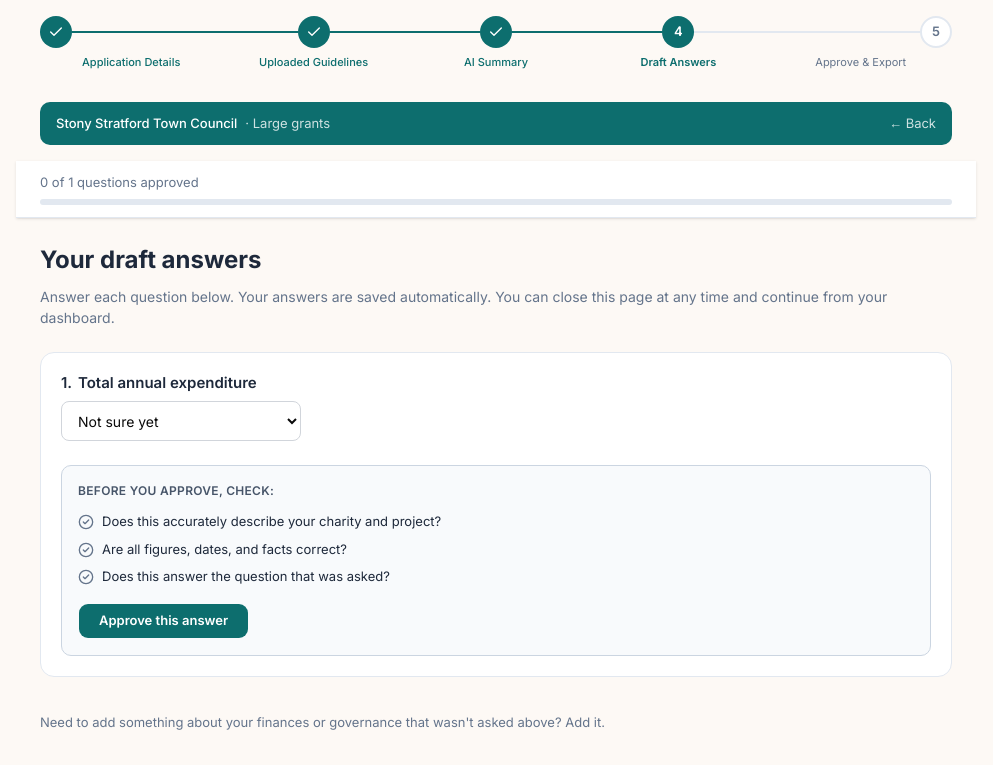
Test case: Step 4 save confirmation (GAP-44, AC-FR-18-05) › confirms the save on a governance field too, which has no word count
Step 1. Select "1100" in the dropdown named "Total annual expenditure" → (181, 421), box [61,401,301,441]
Step 2. Leave the dropdown named "Total annual expenditure", box [61,401,301,441]
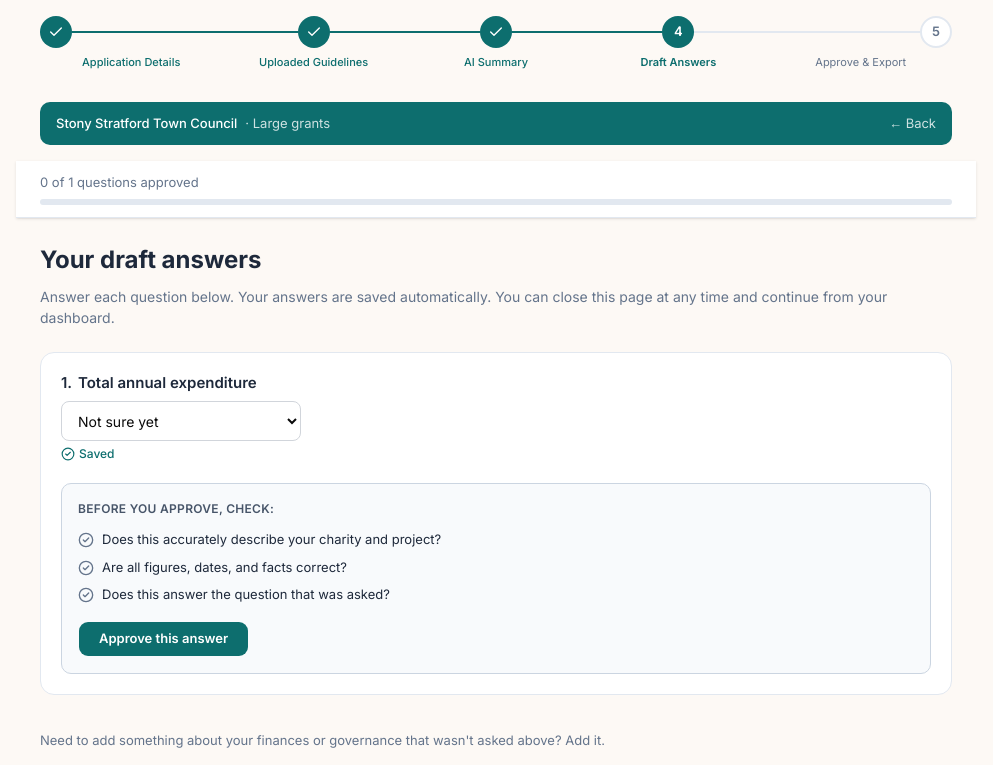
Result: the text "Saved" is shown at [61,445,114,463]
